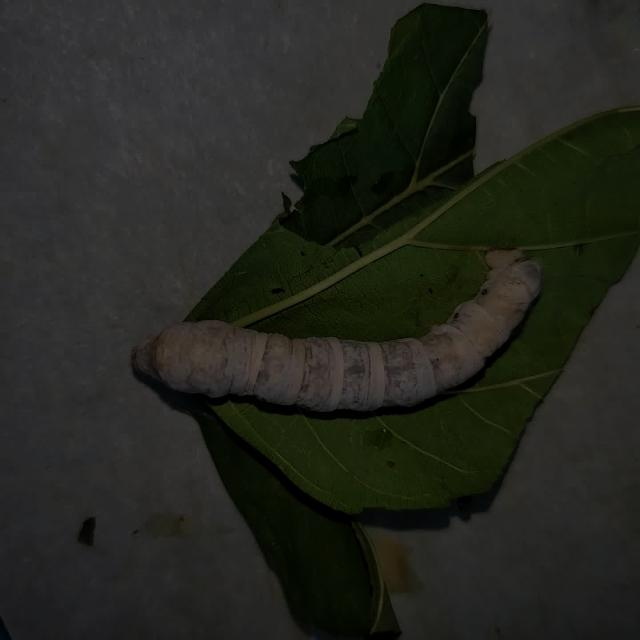Grasserie: (120, 218, 552, 458)
